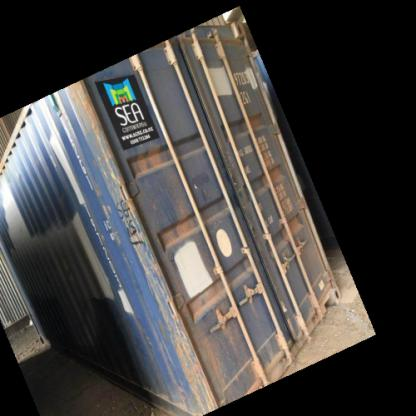Damage: (159, 297, 216, 391), (110, 192, 145, 245), (126, 138, 172, 171), (157, 212, 200, 247), (277, 207, 308, 242), (236, 106, 270, 132), (254, 154, 284, 182)
